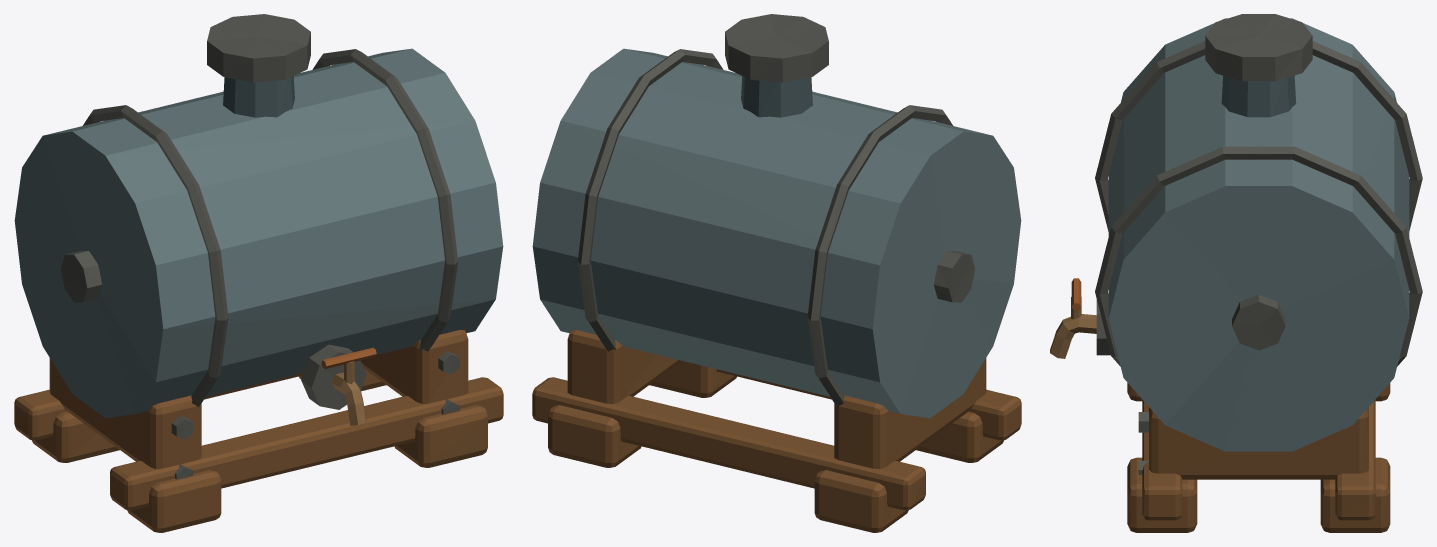
Rendered from Water-Tank.glb.
3 renders of one model, left to right at view 1: azimuth 30°, elevation 25°; view 2: azimuth 150°, elevation 25°; view 3: azimuth 270°, elevation 25°, orthographic.
Parts seen in each view (by area): view 1: water-tank-static-water-tank-blue-grey-mat, water-tank-static-water-tank-timber-mat, water-tank-static-water-tank-iron-mat, water-tank-static-water-tank-dark-grey-mat, water-tank-static-water-tank-brass-mat; view 2: water-tank-static-water-tank-blue-grey-mat, water-tank-static-water-tank-timber-mat, water-tank-static-water-tank-iron-mat, water-tank-static-water-tank-dark-grey-mat; view 3: water-tank-static-water-tank-blue-grey-mat, water-tank-static-water-tank-iron-mat, water-tank-static-water-tank-timber-mat, water-tank-static-water-tank-dark-grey-mat, water-tank-static-water-tank-brass-mat.
Part boxes in pixels (x1,y1,x2,y2): water-tank-static-water-tank-blue-grey-mat: [14, 48, 503, 418]; water-tank-static-water-tank-timber-mat: [14, 330, 503, 532]; water-tank-static-water-tank-iron-mat: [61, 14, 459, 479]; water-tank-static-water-tank-dark-grey-mat: [223, 76, 294, 117]; water-tank-static-water-tank-brass-mat: [331, 361, 366, 425]; water-tank-static-water-tank-blue-grey-mat: [532, 48, 1021, 418]; water-tank-static-water-tank-timber-mat: [532, 330, 1021, 532]; water-tank-static-water-tank-iron-mat: [577, 14, 974, 407]; water-tank-static-water-tank-dark-grey-mat: [741, 76, 812, 117]; water-tank-static-water-tank-blue-grey-mat: [1108, 18, 1409, 451]; water-tank-static-water-tank-iron-mat: [1095, 14, 1422, 474]; water-tank-static-water-tank-timber-mat: [1127, 383, 1390, 532]; water-tank-static-water-tank-dark-grey-mat: [1221, 75, 1296, 117]; water-tank-static-water-tank-brass-mat: [1050, 297, 1096, 358].
Bounding box in the file's own units: 1.65 × 1.72 × 1.39.
